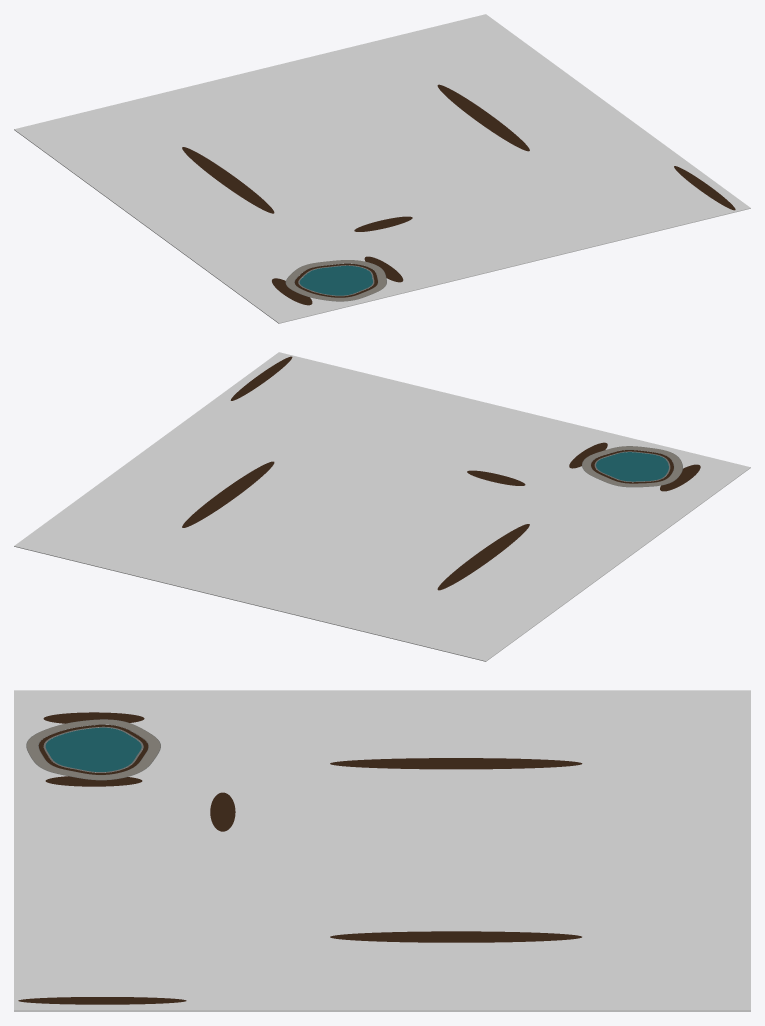
The model's file is Hospital_SITE_LandscapeHardscape_R05B.fbx.
The picture shows the model from 3 angles, top to bottom: view 1: azimuth 30°, elevation 25°; view 2: azimuth 150°, elevation 25°; view 3: azimuth 270°, elevation 25°; orthographic projection. The views are drawn at different scales.
Visible parts, largest first — view 1: S05S_S5_EXP_LandscapeHardscape_S05S_S4B_ContinuousLawnVisual, S05S_S5_EXP_LandscapeHardscape_S05S_S4B_FutureWaterVisualiza, S05S_S5_EXP_LandscapeHardscape_S05S_S4B_Bed_EastFormalGarden, S05S_S5_EXP_LandscapeHardscape_S05S_S4B_Bed_WestFormalGarden, S05S_S5_EXP_LandscapeHardscape_S05S_S4B_LakePromenadePavers, S05S_S5_EXP_LandscapeHardscape_S05S_S4B_Bed_ParkingEdge; view 2: S05S_S5_EXP_LandscapeHardscape_S05S_S4B_ContinuousLawnVisual, S05S_S5_EXP_LandscapeHardscape_S05S_S4B_FutureWaterVisualiza, S05S_S5_EXP_LandscapeHardscape_S05S_S4B_Bed_EastFormalGarden, S05S_S5_EXP_LandscapeHardscape_S05S_S4B_Bed_WestFormalGarden, S05S_S5_EXP_LandscapeHardscape_S05S_S4B_LakePromenadePavers, S05S_S5_EXP_LandscapeHardscape_S05S_S4B_Bed_ParkingEdge; view 3: S05S_S5_EXP_LandscapeHardscape_S05S_S4B_ContinuousLawnVisual, S05S_S5_EXP_LandscapeHardscape_S05S_S4B_FutureWaterVisualiza, S05S_S5_EXP_LandscapeHardscape_S05S_S4B_Bed_EastFormalGarden, S05S_S5_EXP_LandscapeHardscape_S05S_S4B_Bed_WestFormalGarden, S05S_S5_EXP_LandscapeHardscape_S05S_S4B_LakePromenadePavers, S05S_S5_EXP_LandscapeHardscape_S05S_S4B_Bed_ParkingEdge, S05S_S5_EXP_LandscapeHardscape_S05S_S4B_LakePlantedBank, S05S_S5_EXP_LandscapeHardscape_S05S_S4B_Bed_LakeWest, S05S_S5_EXP_LandscapeHardscape_S05S_S4B_Bed_ArrivalGarden, S05S_S5_EXP_LandscapeHardscape_S05S_S4B_Bed_LakeEast, S05S_S5_EXP_LandscapeHardscape_S05S_S4B_LakePromenadeEdgeCou.
Boxes of the visible parts, box(x1,y1,x2,y2) form: S05S_S5_EXP_LandscapeHardscape_S05S_S4B_ContinuousLawnVisual: box(14, 14, 750, 323); S05S_S5_EXP_LandscapeHardscape_S05S_S4B_FutureWaterVisualiza: box(299, 265, 372, 295); S05S_S5_EXP_LandscapeHardscape_S05S_S4B_Bed_EastFormalGarden: box(437, 84, 529, 151); S05S_S5_EXP_LandscapeHardscape_S05S_S4B_Bed_WestFormalGarden: box(182, 147, 274, 213); S05S_S5_EXP_LandscapeHardscape_S05S_S4B_LakePromenadePavers: box(286, 260, 386, 301); S05S_S5_EXP_LandscapeHardscape_S05S_S4B_Bed_ParkingEdge: box(674, 166, 735, 210); S05S_S5_EXP_LandscapeHardscape_S05S_S4B_ContinuousLawnVisual: box(14, 352, 750, 661); S05S_S5_EXP_LandscapeHardscape_S05S_S4B_FutureWaterVisualiza: box(596, 452, 668, 481); S05S_S5_EXP_LandscapeHardscape_S05S_S4B_Bed_EastFormalGarden: box(182, 461, 274, 527); S05S_S5_EXP_LandscapeHardscape_S05S_S4B_Bed_WestFormalGarden: box(437, 524, 529, 590); S05S_S5_EXP_LandscapeHardscape_S05S_S4B_LakePromenadePavers: box(582, 446, 682, 486); S05S_S5_EXP_LandscapeHardscape_S05S_S4B_Bed_ParkingEdge: box(230, 356, 292, 400); S05S_S5_EXP_LandscapeHardscape_S05S_S4B_ContinuousLawnVisual: box(14, 690, 750, 1011); S05S_S5_EXP_LandscapeHardscape_S05S_S4B_FutureWaterVisualiza: box(45, 727, 141, 771); S05S_S5_EXP_LandscapeHardscape_S05S_S4B_Bed_EastFormalGarden: box(330, 931, 581, 942); S05S_S5_EXP_LandscapeHardscape_S05S_S4B_Bed_WestFormalGarden: box(330, 758, 582, 769); S05S_S5_EXP_LandscapeHardscape_S05S_S4B_LakePromenadePavers: box(27, 719, 160, 779); S05S_S5_EXP_LandscapeHardscape_S05S_S4B_Bed_ParkingEdge: box(18, 997, 186, 1004); S05S_S5_EXP_LandscapeHardscape_S05S_S4B_LakePlantedBank: box(38, 724, 148, 774); S05S_S5_EXP_LandscapeHardscape_S05S_S4B_Bed_LakeWest: box(43, 712, 144, 724); S05S_S5_EXP_LandscapeHardscape_S05S_S4B_Bed_ArrivalGarden: box(210, 792, 235, 831); S05S_S5_EXP_LandscapeHardscape_S05S_S4B_Bed_LakeEast: box(45, 776, 142, 786); S05S_S5_EXP_LandscapeHardscape_S05S_S4B_LakePromenadeEdgeCou: box(26, 719, 160, 780).
Bounding box in the file's own units: 180 × 0.347 × 175.
